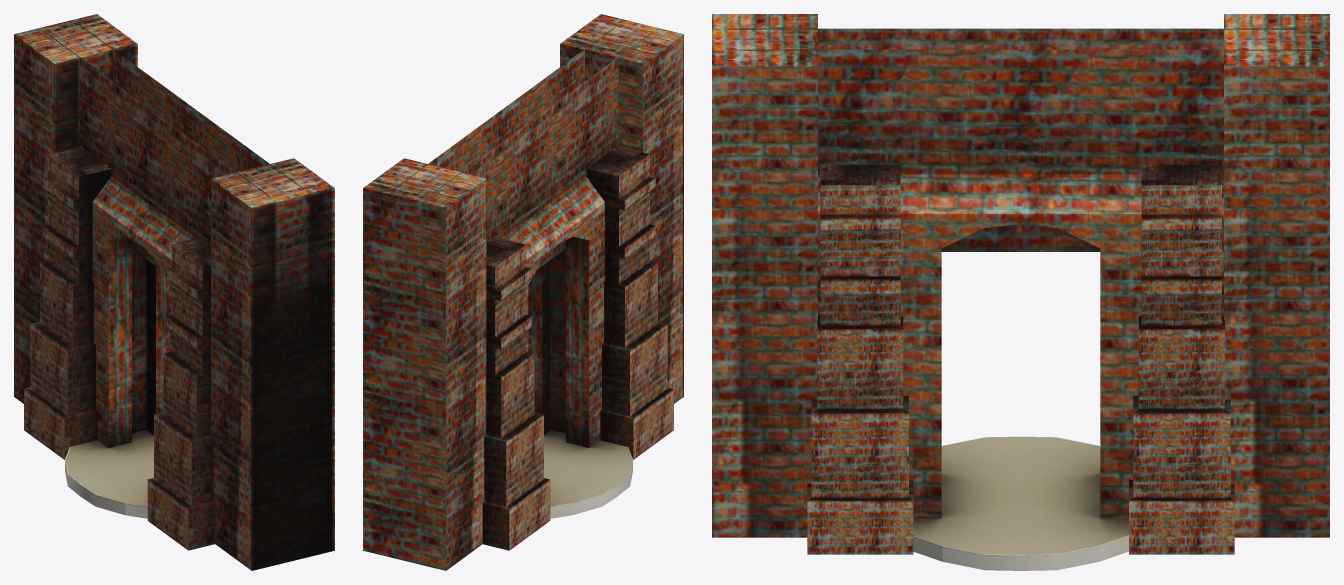
Rendered from Portal_v2.fbx.
3 renders of one model, left to right at view 1: azimuth 30°, elevation 25°; view 2: azimuth 150°, elevation 25°; view 3: azimuth 270°, elevation 25°, orthographic. The views are drawn at different scales.
Parts seen in each view (by area): view 1: pCube6; view 2: pCube6; view 3: pCube6.
Boxes of the visible parts, left/top/right/bottom form: pCube6: left=14, top=14, right=334, bottom=570; pCube6: left=363, top=14, right=683, bottom=570; pCube6: left=712, top=14, right=1329, bottom=570.
Bounding box in the file's own units: 2.66 × 4.92 × 5.83.
1 material, 1 textured.
